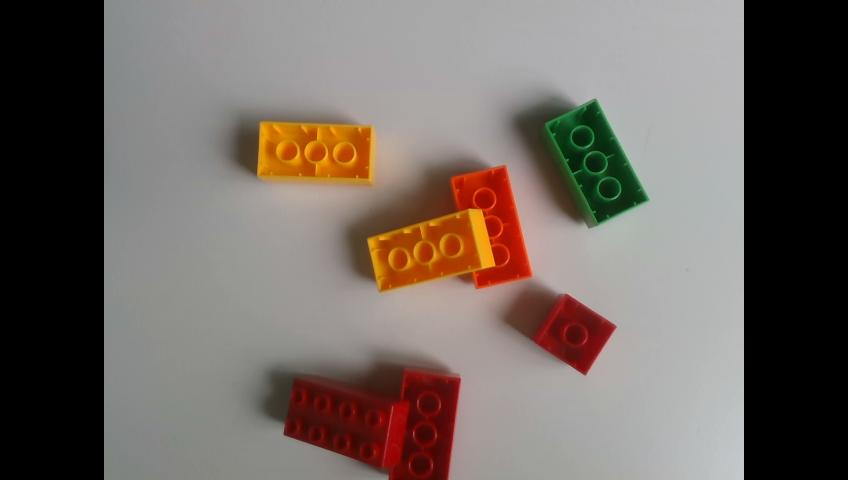2x2_red: (530, 293, 619, 376)
4x2_green: (539, 97, 650, 229)
4x2_orange: (450, 165, 533, 292)
4x2_red: (285, 375, 411, 472), (389, 366, 463, 480)
4x2_yellow: (365, 208, 495, 295), (257, 121, 379, 186)
